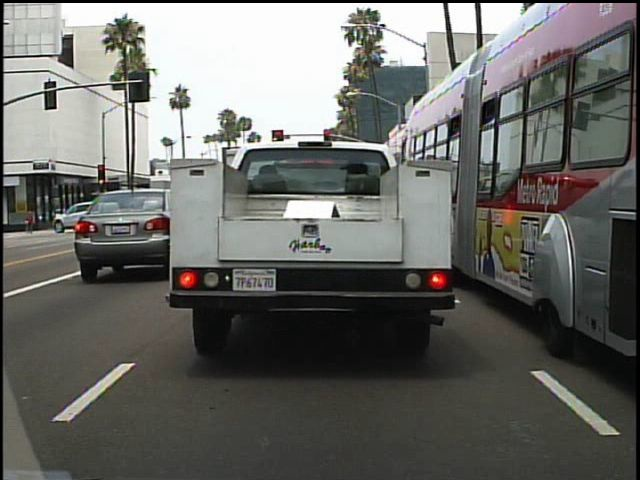person: (24, 207, 38, 238)
